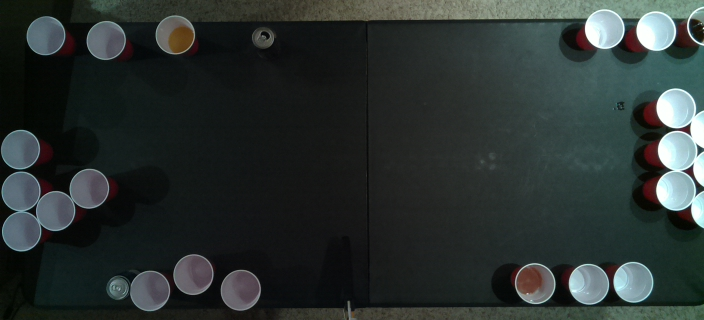active bp cup: (34, 189, 75, 231), (1, 210, 42, 252), (654, 88, 696, 129), (654, 170, 696, 211), (656, 130, 697, 171), (68, 168, 109, 208), (1, 171, 41, 211), (1, 130, 40, 170), (689, 109, 703, 148), (691, 150, 703, 189), (690, 192, 703, 228)
can: (248, 23, 275, 51), (102, 273, 129, 301)
drink cup: (513, 261, 556, 304), (152, 14, 196, 55), (685, 3, 703, 50)
inactive bp cup: (219, 268, 263, 311), (24, 14, 67, 57), (582, 8, 626, 50), (634, 10, 678, 52), (566, 263, 609, 305), (171, 253, 214, 295), (612, 258, 653, 302), (84, 21, 128, 61), (129, 271, 171, 311)
